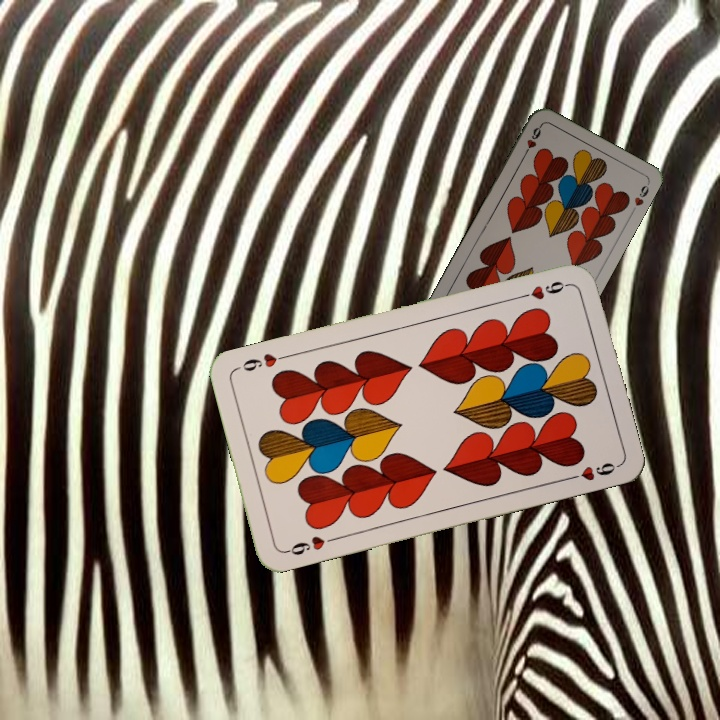H9: (280, 532, 339, 558), (514, 277, 572, 303), (520, 121, 545, 158)
